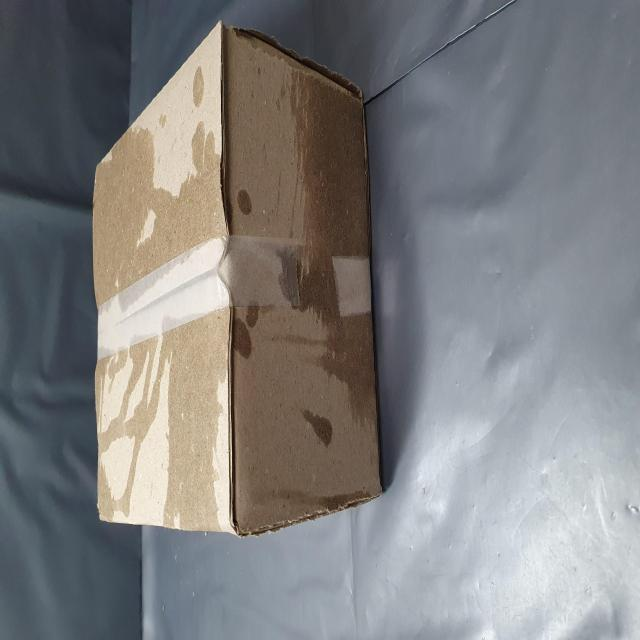wet: (66, 164, 331, 412), (107, 502, 320, 640)
